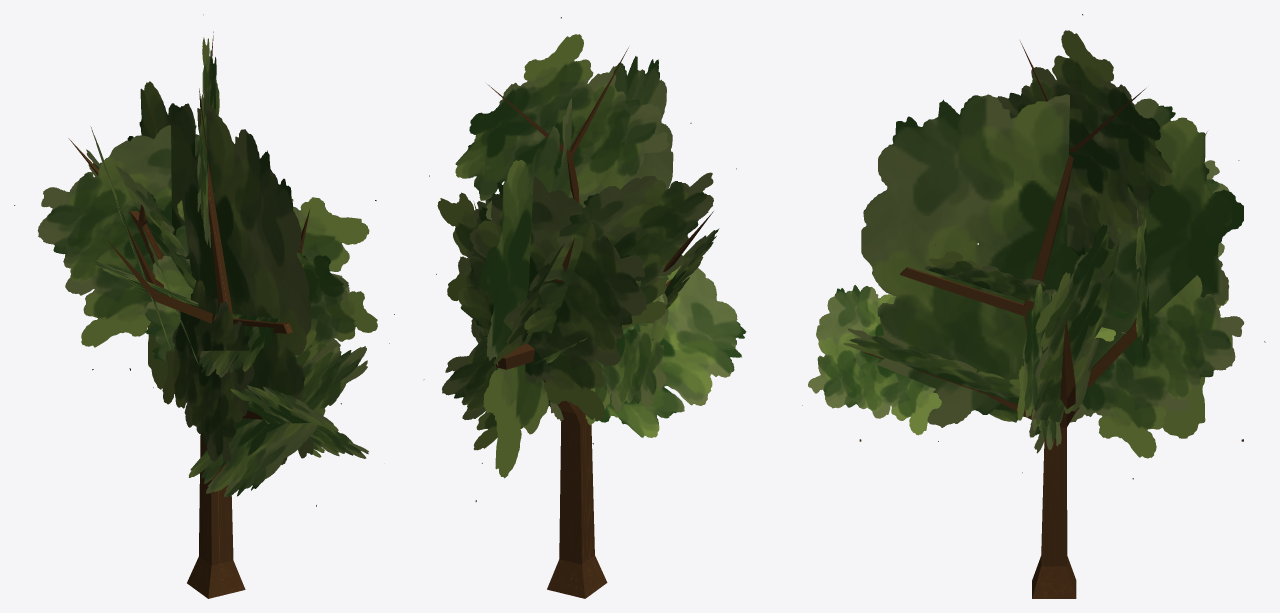
Rendered from arvore-simples-variacao2fbx.fbx.
The picture shows the model from 3 angles, left to right: view 1: azimuth 30°, elevation 25°; view 2: azimuth 150°, elevation 25°; view 3: azimuth 270°, elevation 25°; orthographic projection. The views are drawn at different scales.
Parts seen in each view (by area): view 1: Plane, Plane.009, Plane.012, Cube, Plane.014, Plane.006, Plane.007, Plane.015, Plane.010, Plane.013, Plane.005, Plane.019 (+1 smaller); view 2: Plane.009, Plane.013, Plane, Plane.021, Plane.014, Cube, Plane.012, Plane.004, Plane.006, Plane.010, Plane.015, Plane.007; view 3: Plane, Plane.013, Plane.004, Cube, Plane.015, Plane.006, Plane.014, Plane.007, Plane.005, Plane.009, Plane.021, Plane.010.
Part boxes in pixels (bbox=[...]): Plane: bbox=[127, 81, 316, 506]; Plane.009: bbox=[14, 125, 199, 370]; Plane.012: bbox=[153, 280, 254, 463]; Cube: bbox=[68, 31, 310, 598]; Plane.014: bbox=[188, 330, 389, 497]; Plane.006: bbox=[145, 197, 376, 404]; Plane.007: bbox=[297, 252, 394, 358]; Plane.015: bbox=[230, 385, 368, 458]; Plane.010: bbox=[86, 149, 196, 288]; Plane.013: bbox=[194, 14, 219, 247]; Plane.005: bbox=[197, 264, 313, 377]; Plane.019: bbox=[94, 261, 198, 306]; Plane.009: bbox=[457, 176, 668, 444]; Plane.013: bbox=[455, 17, 691, 219]; Plane: bbox=[475, 56, 673, 501]; Plane.021: bbox=[524, 168, 736, 343]; Plane.014: bbox=[595, 266, 746, 437]; Cube: bbox=[473, 47, 713, 598]; Plane.012: bbox=[576, 292, 668, 429]; Plane.004: bbox=[424, 300, 550, 463]; Plane.006: bbox=[429, 175, 490, 343]; Plane.010: bbox=[485, 244, 564, 380]; Plane.015: bbox=[664, 228, 719, 309]; Plane.007: bbox=[436, 256, 484, 339]; Plane: bbox=[859, 94, 1243, 441]; Plane.013: bbox=[996, 14, 1171, 256]; Plane.004: bbox=[1079, 275, 1265, 479]; Cube: bbox=[860, 41, 1207, 598]; Plane.015: bbox=[802, 285, 941, 441]; Plane.006: bbox=[1022, 224, 1122, 472]; Plane.014: bbox=[843, 321, 1060, 422]; Plane.007: bbox=[1011, 283, 1063, 449]; Plane.005: bbox=[925, 244, 1057, 301]; Plane.009: bbox=[1135, 201, 1149, 358]; Plane.021: bbox=[1134, 98, 1175, 127]; Plane.010: bbox=[1111, 160, 1239, 318].
Size of what is drawn, in the model's own units: 487 by 862 by 628.
